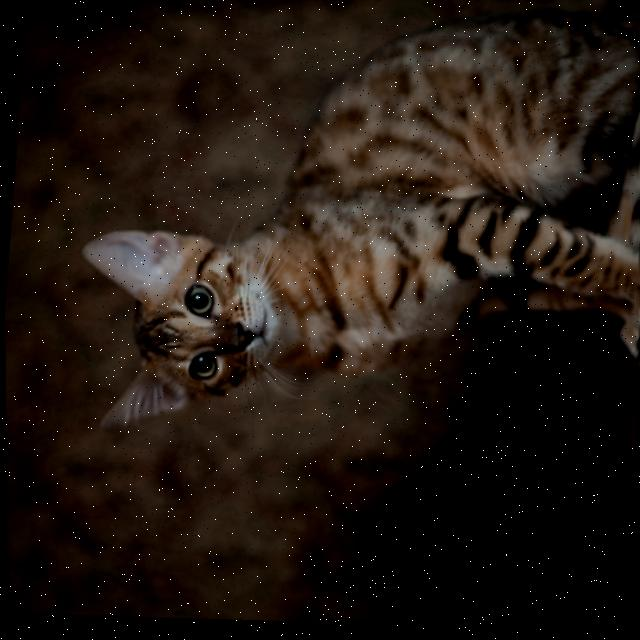Bengal: (57, 0, 640, 484)
